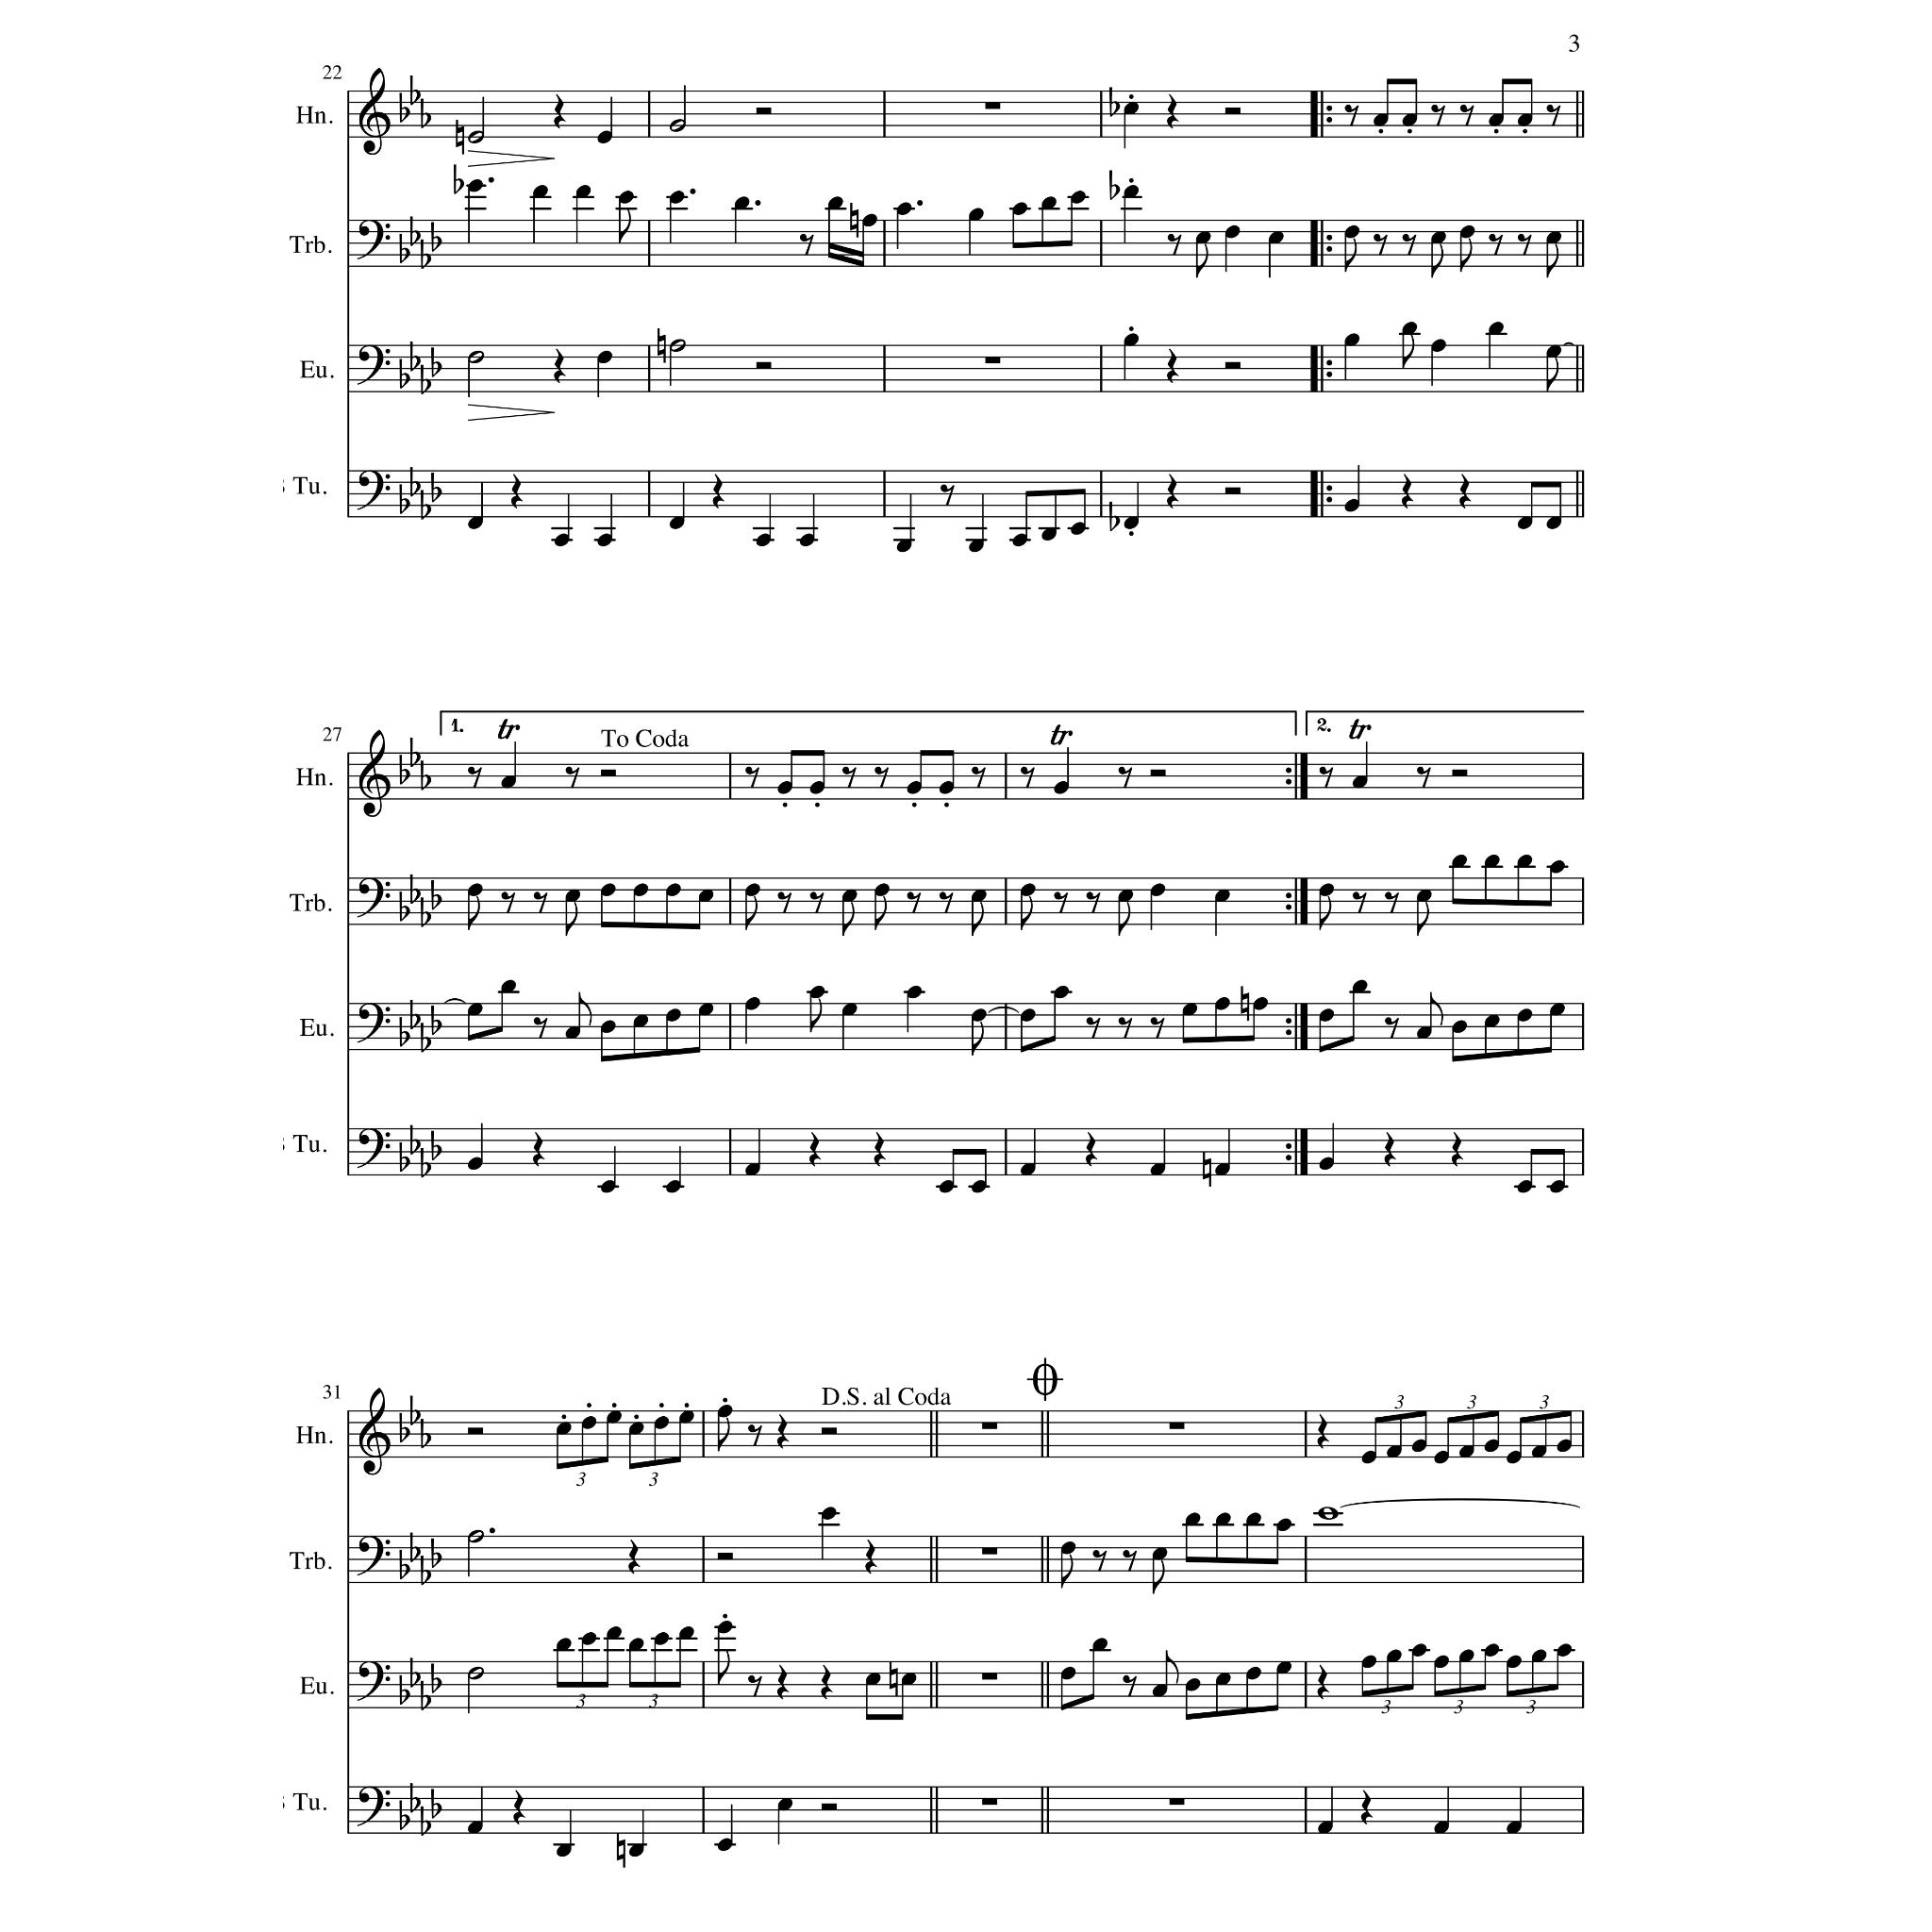fClef: (357, 471, 391, 511), (357, 219, 391, 260), (357, 345, 391, 386), (357, 878, 391, 918), (357, 1127, 391, 1168), (357, 1536, 391, 1576), (357, 1661, 391, 1702), (357, 1787, 391, 1828), (357, 1003, 391, 1042)
flag8thDown: (1345, 237, 1357, 272), (1196, 244, 1208, 280), (1546, 244, 1559, 280), (1403, 334, 1415, 370), (1460, 237, 1472, 272), (1431, 244, 1444, 280), (619, 209, 632, 244), (971, 1021, 984, 1056), (810, 998, 823, 1033), (1062, 1553, 1074, 1589), (1546, 357, 1559, 391), (1118, 902, 1131, 936), (1320, 897, 1332, 931), (1021, 897, 1033, 931), (1417, 902, 1430, 936), (566, 902, 579, 936), (469, 897, 481, 931), (842, 902, 855, 936), (971, 902, 984, 936), (745, 897, 757, 931), (1152, 1560, 1164, 1594), (718, 1417, 729, 1453), (718, 1651, 729, 1686), (876, 897, 886, 931)
flag8thUp: (1430, 993, 1444, 1026), (1166, 1651, 1180, 1684), (579, 993, 591, 1026)
gClef: (359, 67, 391, 156), (359, 729, 391, 817), (359, 1387, 391, 1476)
noteheadBlack: (1214, 1162, 1231, 1177), (1483, 855, 1500, 869), (1483, 1014, 1500, 1028), (1214, 1672, 1231, 1686), (1483, 1438, 1500, 1453), (1483, 1644, 1500, 1658), (901, 1672, 918, 1686), (1224, 225, 1240, 239), (1460, 225, 1476, 239), (617, 189, 633, 203), (669, 189, 685, 203), (596, 131, 612, 145), (596, 350, 612, 364), (596, 534, 612, 548), (467, 179, 483, 193), (554, 534, 570, 548), (1040, 196, 1056, 211), (1012, 534, 1028, 548), (755, 534, 771, 548), (734, 196, 750, 211), (798, 534, 814, 548), (862, 214, 878, 228), (826, 196, 842, 211), (1070, 522, 1086, 536), (1070, 189, 1086, 203), (1150, 883, 1166, 897), (1150, 1162, 1166, 1177), (1318, 883, 1334, 897), (1318, 1155, 1334, 1169), (1019, 883, 1035, 897), (1019, 1162, 1035, 1177), (1516, 855, 1532, 869), (1516, 1180, 1532, 1194), (1548, 860, 1564, 874), (1548, 1180, 1564, 1194), (1352, 775, 1368, 789), (1451, 855, 1467, 869), (1451, 1021, 1467, 1035), (1417, 1026, 1433, 1040), (600, 883, 616, 897), (600, 1021, 616, 1035), (600, 1180, 616, 1194), (564, 1026, 580, 1040), (633, 883, 649, 897), (633, 1014, 649, 1028), (665, 883, 681, 897), (665, 1180, 681, 1194), (467, 883, 483, 897), (467, 1155, 483, 1169), (501, 775, 517, 789), (906, 780, 922, 794), (906, 985, 922, 1000), (745, 883, 761, 897), (874, 883, 890, 897), (970, 1180, 985, 1194), (938, 780, 954, 794), (938, 1180, 954, 1194), (777, 780, 793, 794), (745, 1162, 761, 1177), (809, 780, 824, 794), (809, 985, 824, 1000), (1276, 1518, 1292, 1532), (1361, 1451, 1376, 1465), (1361, 1656, 1376, 1670), (1152, 1546, 1168, 1560), (1246, 1667, 1261, 1681), (1530, 1649, 1546, 1663), (1557, 1438, 1573, 1453), (1557, 1644, 1573, 1658), (1433, 1451, 1449, 1465), (1433, 1656, 1449, 1670), (1433, 1821, 1449, 1835), (1387, 1649, 1403, 1663), (1410, 1438, 1426, 1453), (1410, 1644, 1426, 1658), (1506, 1451, 1522, 1465), (1506, 1656, 1522, 1670), (1506, 1821, 1522, 1835), (1460, 1649, 1476, 1663), (580, 1631, 596, 1645), (607, 1410, 623, 1424), (607, 1626, 623, 1640), (679, 1410, 695, 1424), (679, 1626, 695, 1640), (717, 1621, 732, 1635), (653, 1415, 669, 1430), (580, 1415, 596, 1430), (653, 1631, 669, 1645), (467, 1821, 483, 1835), (865, 1672, 881, 1686), (821, 1506, 837, 1520), (1060, 1541, 1076, 1555), (1060, 1667, 1076, 1681), (777, 1798, 793, 1812), (531, 186, 548, 198), (1214, 890, 1231, 902), (1214, 998, 1231, 1010), (1214, 1513, 1231, 1525), (1184, 1513, 1201, 1525), (1184, 1679, 1201, 1691), (1345, 499, 1359, 513), (1345, 225, 1359, 239), (1546, 345, 1560, 359), (1054, 780, 1069, 794), (1054, 985, 1069, 1000), (1318, 1821, 1332, 1835), (1267, 232, 1283, 244), (1373, 113, 1389, 126), (1123, 103, 1139, 115), (1123, 186, 1139, 198), (1123, 334, 1139, 347), (1123, 517, 1139, 529), (1194, 232, 1210, 244), (1516, 113, 1532, 126), (1516, 517, 1532, 529), (1431, 232, 1447, 244), (1431, 340, 1447, 352), (1401, 113, 1417, 126), (1401, 322, 1417, 334), (1488, 113, 1504, 126), (1488, 322, 1504, 334), (575, 186, 591, 198), (669, 517, 685, 529), (467, 517, 483, 529), (1040, 529, 1056, 541), (895, 203, 911, 216), (895, 540, 911, 552), (968, 540, 984, 552), (1012, 203, 1028, 216), (968, 209, 984, 221), (1182, 1003, 1198, 1016), (1318, 1008, 1334, 1021), (1253, 998, 1269, 1010), (1019, 1008, 1035, 1021), (1118, 890, 1134, 902), (1516, 1008, 1532, 1021), (1548, 1003, 1564, 1016), (1352, 980, 1368, 993), (1417, 890, 1433, 902), (564, 890, 580, 902), (697, 890, 713, 902), (697, 1003, 713, 1016), (665, 1008, 681, 1021), (467, 1003, 483, 1016), (501, 980, 517, 993), (840, 890, 856, 902), (840, 1003, 856, 1016), (970, 890, 985, 902), (970, 1008, 985, 1021), (745, 998, 761, 1010), (1276, 1661, 1292, 1674), (1152, 1684, 1168, 1697), (1092, 1638, 1108, 1651), (1246, 1513, 1261, 1525), (1530, 1445, 1546, 1458), (1387, 1445, 1403, 1458), (1460, 1445, 1476, 1458), (628, 1422, 644, 1435), (628, 1638, 644, 1651), (628, 1844, 644, 1856), (717, 1405, 732, 1417), (556, 1422, 571, 1435), (556, 1638, 571, 1651), (556, 1844, 571, 1856), (717, 1838, 732, 1851), (1345, 334, 1359, 347), (1546, 232, 1560, 244), (1546, 517, 1560, 529)
noteheadHalf: (467, 131, 485, 145), (467, 350, 485, 364), (467, 1667, 485, 1681), (669, 120, 686, 133), (669, 340, 686, 352), (467, 1530, 485, 1543)
noteheadWhole: (1318, 1506, 1339, 1520)
rest8th: (1516, 234, 1532, 257), (1430, 104, 1445, 127), (1401, 234, 1417, 257), (1150, 1017, 1166, 1040), (1318, 766, 1334, 789), (1019, 766, 1035, 789), (1352, 892, 1368, 915), (1384, 892, 1399, 915), (1384, 1017, 1399, 1040), (1415, 766, 1431, 789), (564, 766, 580, 789), (533, 892, 548, 915), (533, 1017, 548, 1040), (906, 892, 922, 915), (777, 892, 793, 915), (809, 892, 824, 915), (747, 1424, 763, 1447), (747, 1674, 763, 1697), (939, 485, 955, 506), (1345, 104, 1359, 127), (1168, 234, 1182, 257), (1546, 104, 1560, 127), (1373, 234, 1387, 257), (1488, 234, 1502, 257), (1460, 104, 1474, 127), (800, 234, 814, 257), (1086, 892, 1100, 915), (1086, 1017, 1100, 1040), (1118, 766, 1132, 789), (1118, 1017, 1132, 1040), (1054, 892, 1069, 915), (745, 766, 759, 789), (467, 766, 481, 789), (501, 892, 515, 915), (842, 766, 856, 789), (874, 766, 888, 789), (971, 766, 985, 789), (939, 892, 954, 915), (1123, 1550, 1138, 1573), (1123, 1674, 1138, 1697), (1092, 1550, 1106, 1573)
restHalf: (1224, 108, 1240, 115), (1224, 363, 1240, 370), (1224, 488, 1240, 495), (755, 108, 771, 115), (755, 363, 771, 370), (1150, 770, 1166, 777), (1451, 770, 1467, 777), (600, 770, 616, 777), (718, 1553, 734, 1560), (467, 1428, 483, 1435), (821, 1803, 837, 1810), (821, 1428, 837, 1435)
restQuarter: (1085, 1131, 1097, 1168), (1451, 1131, 1463, 1168), (1384, 1131, 1396, 1168), (533, 1131, 545, 1168), (872, 1131, 885, 1168), (809, 1131, 821, 1168), (1361, 1789, 1373, 1826), (513, 1789, 525, 1826), (1166, 94, 1178, 129), (1166, 349, 1178, 384), (1166, 474, 1178, 510), (1401, 474, 1414, 510), (1460, 474, 1472, 510), (511, 474, 524, 510), (554, 94, 566, 129), (554, 349, 566, 384), (711, 474, 724, 510), (1316, 1414, 1329, 1449), (1316, 1665, 1329, 1700), (628, 1539, 640, 1575), (865, 1539, 878, 1575), (821, 1665, 833, 1700), (777, 1665, 789, 1700), (777, 1414, 789, 1449)
restWhole: (1168, 1798, 1184, 1806), (982, 1798, 998, 1806), (982, 1672, 998, 1681), (982, 1546, 998, 1555), (984, 357, 1000, 364), (984, 103, 1000, 110), (1168, 1422, 1184, 1430), (982, 1422, 998, 1430)
